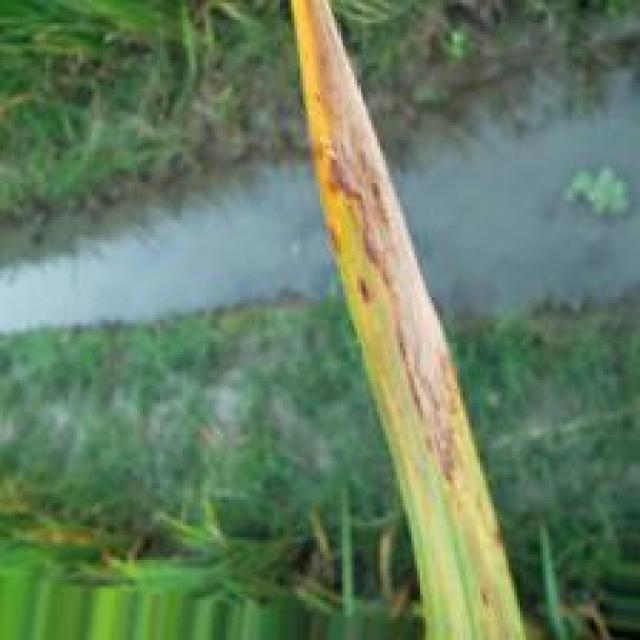Leaf_Scald: (306, 0, 460, 498)
